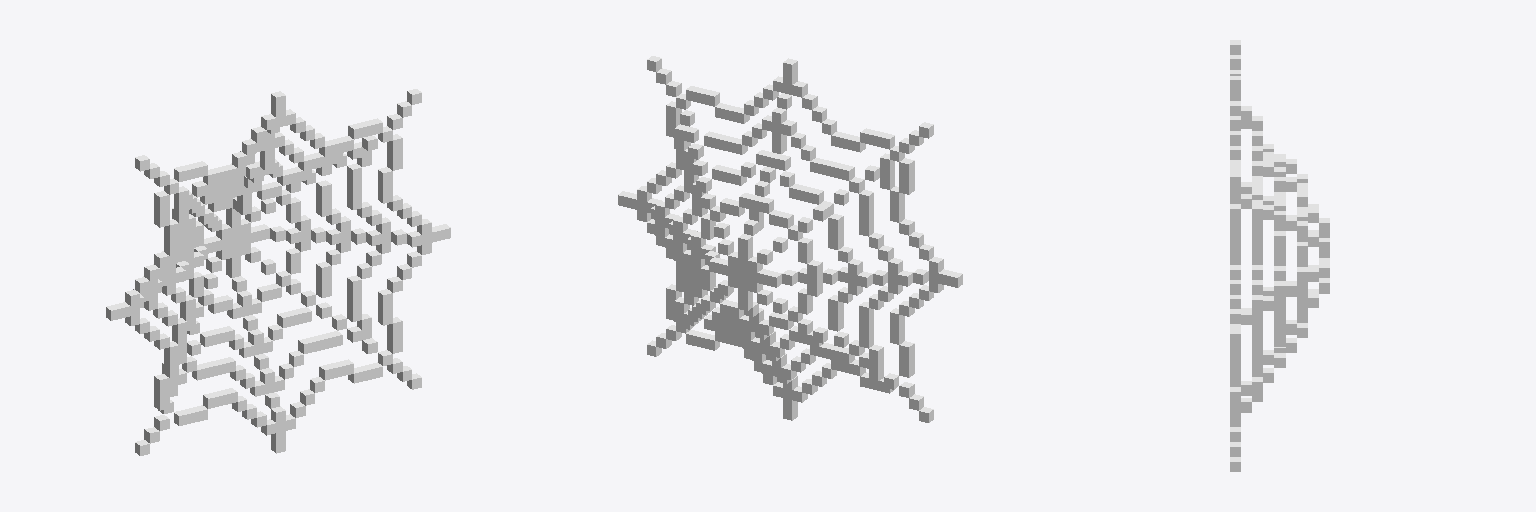
The model's file is telaaraña.obj.
3 renders of one model, left to right at view 1: azimuth 30°, elevation 25°; view 2: azimuth 150°, elevation 25°; view 3: azimuth 270°, elevation 25°, orthographic.
Parts seen in each view (by area): view 1: object 1; view 2: object 1; view 3: object 1.
Part boxes in pixels (x1,y1,x2,y2): object 1: (106,89,450,455); object 1: (618,56,962,422); object 1: (1230,40,1329,471).
Bounding box in the file's own units: 3.5 × 3.5 × 0.9.